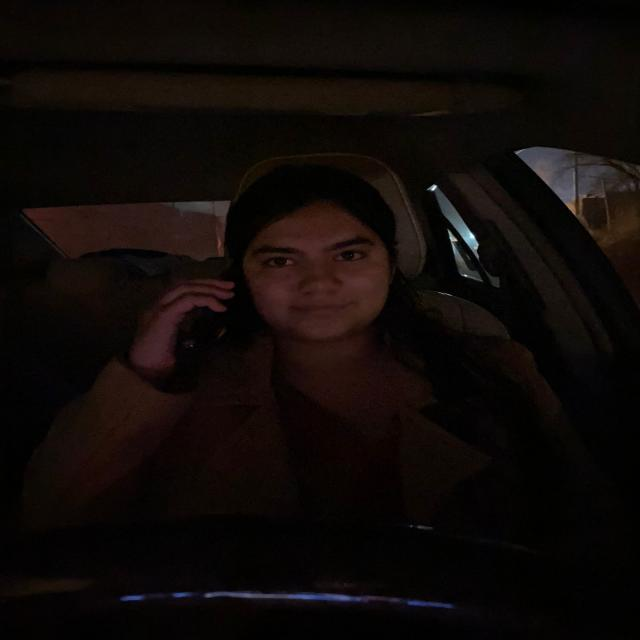mobile: (177, 303, 234, 369)
person: (230, 185, 404, 332)
